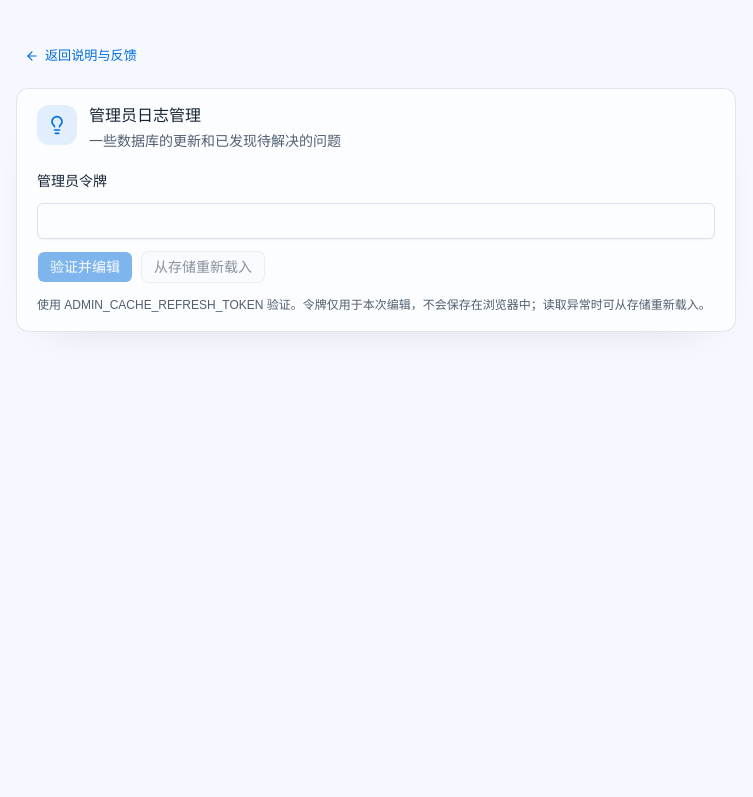
Scenario: restoring published logs fetches the latest revision after conflict and permits publishing again
Type "admin-secret" into the password field labelled "管理员令牌" at (376, 221), box [37,203,715,239]
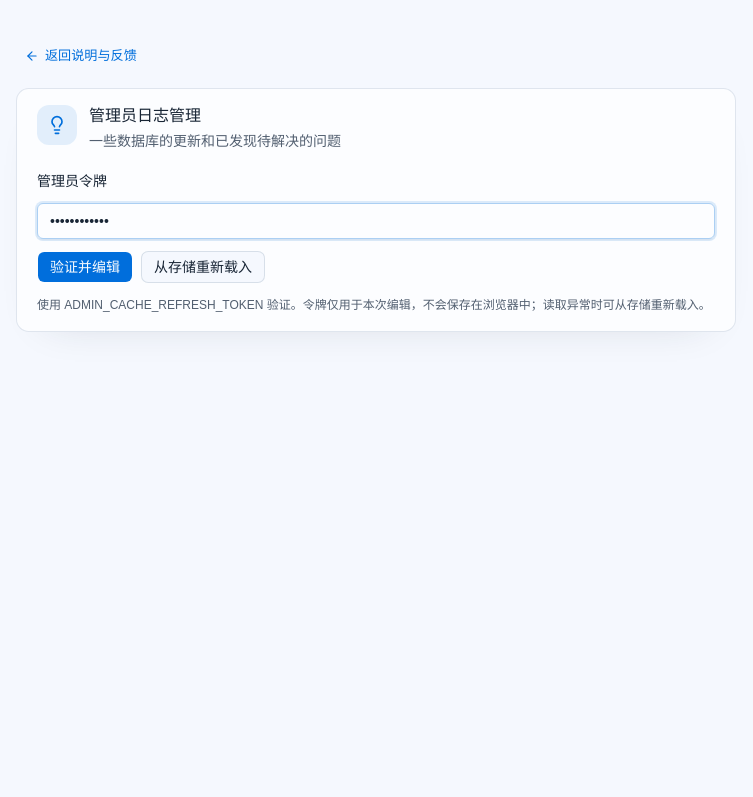
Click the button "验证并编辑" at (85, 267), box [37,251,133,283]
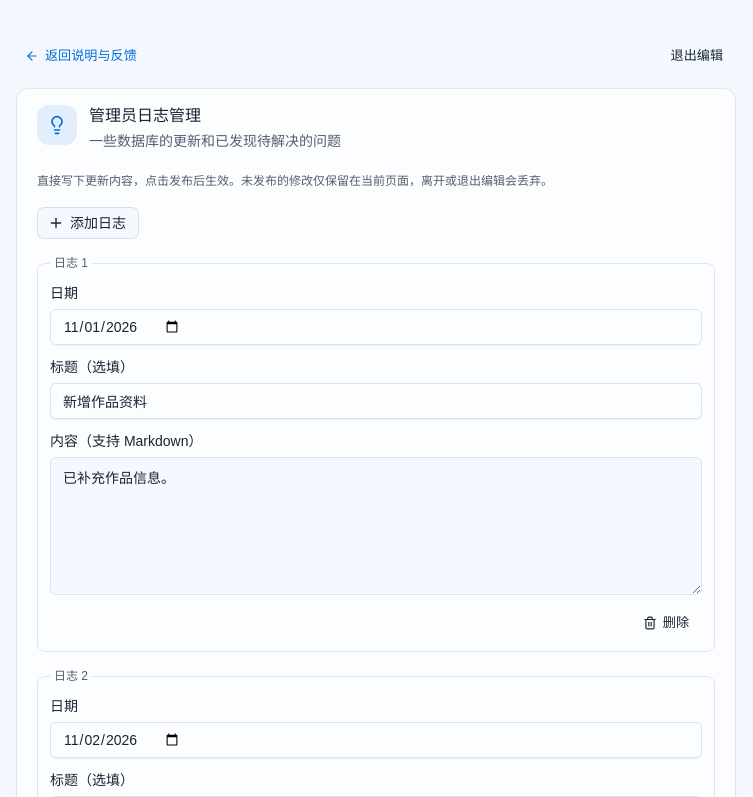
Replace the text in the 1st field labelled "标题（选填）" with "旧窗口的修改" at (376, 401), box [50,383,702,419]
(page scrolled)
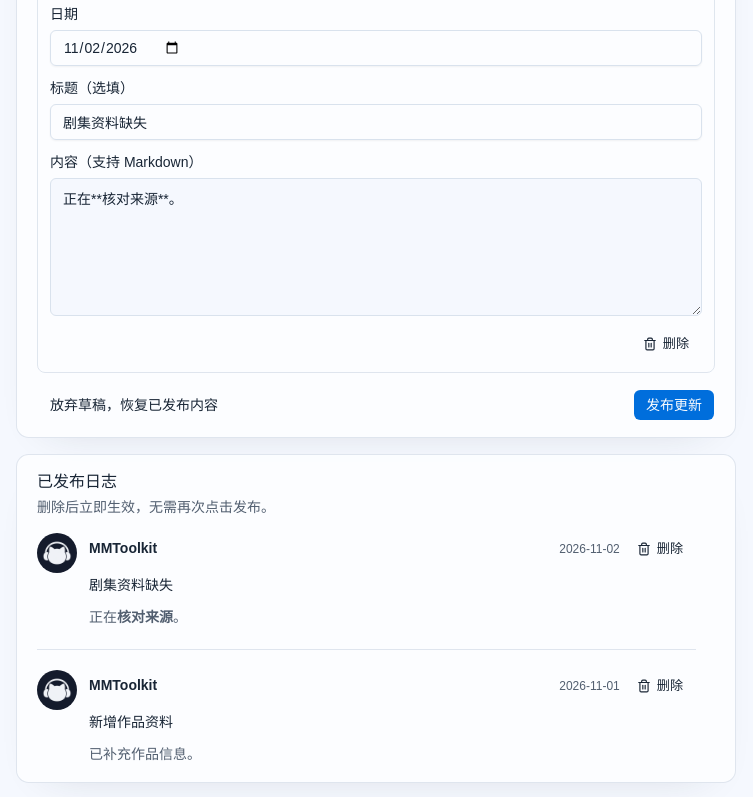
Click the button "发布更新" at (674, 405), box [633,389,715,421]
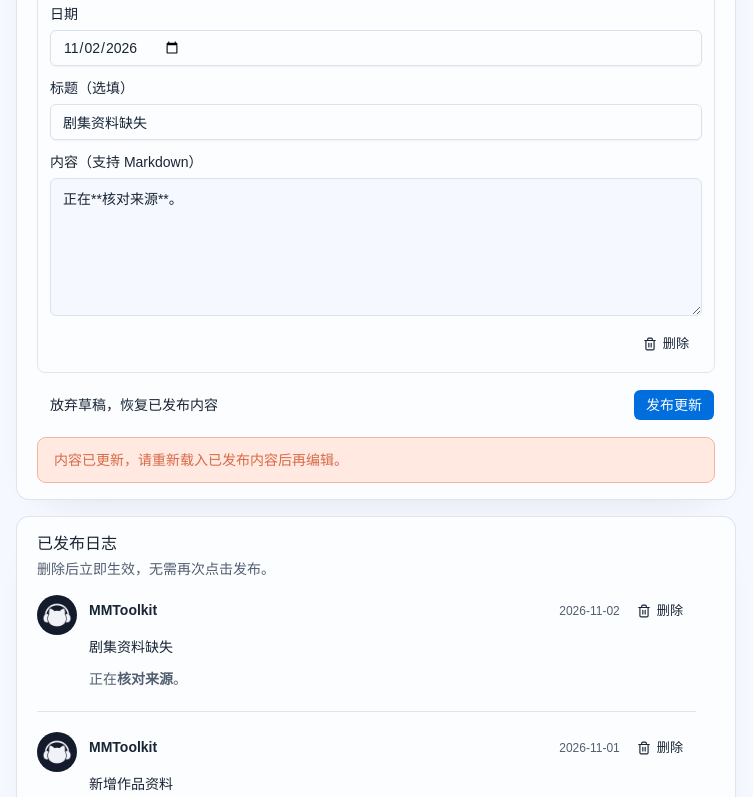
Now the message shows "内容已更新", box [54,452,348,468]
Click the button "放弃草稿，恢复已发布内容" at (134, 405), box [37,389,231,421]
(page scrolled)
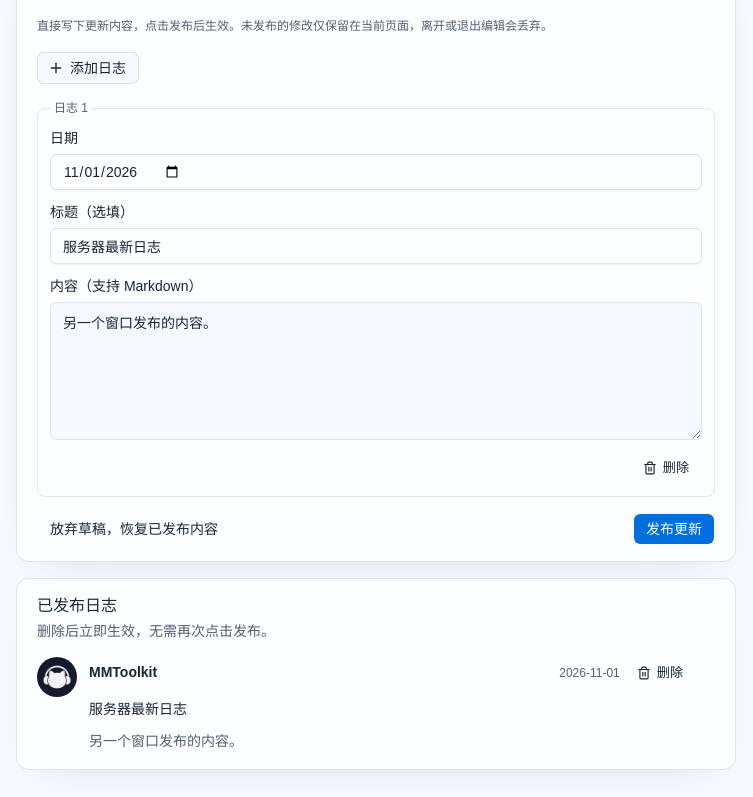
Now the element "服务器最新日志" is shown, box [37,657,696,753]
Now the field labelled "标题（选填）" holds "服务器最新日志"
Now the text box labelled "内容（支持 Markdown）" holds "另一个窗口发布的内容。", box [50,302,702,440]
Type "（继续编辑）" into the field labelled "标题（选填）" at (376, 246), box [50,228,702,264]
Click the button "发布更新" at (674, 529), box [633,513,715,545]
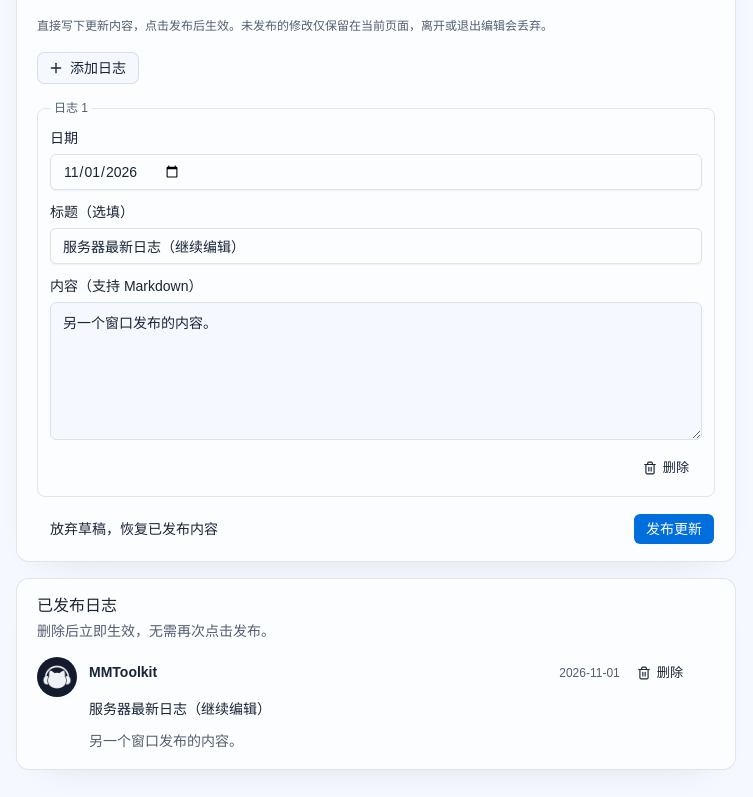
Expected: the message "内容已更新，请重新载入已发布内容后再编辑。" is not shown
Now the element "服务器最新日志（继续编辑）" is shown, box [37,657,696,753]
